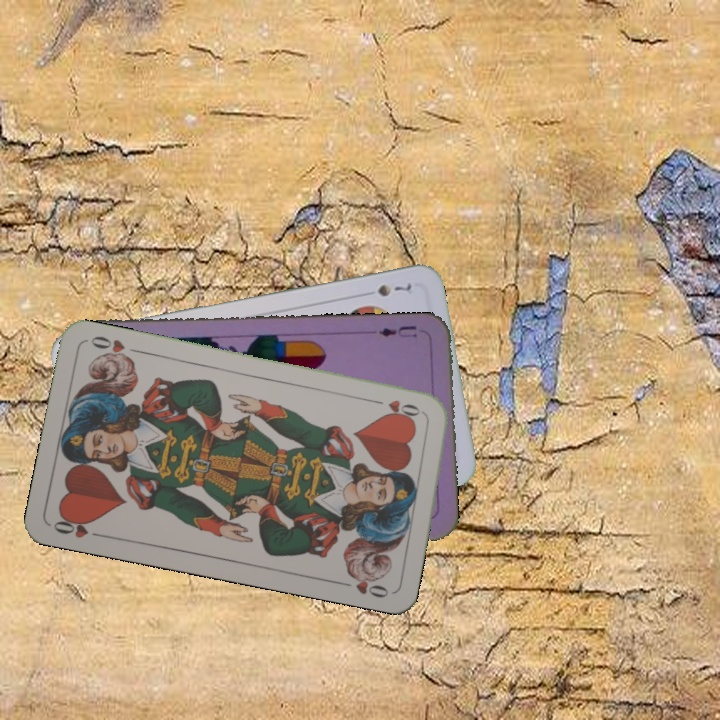EU: (374, 322, 420, 340)
HO: (49, 511, 107, 541), (368, 395, 427, 419)
S7: (373, 280, 416, 300)
